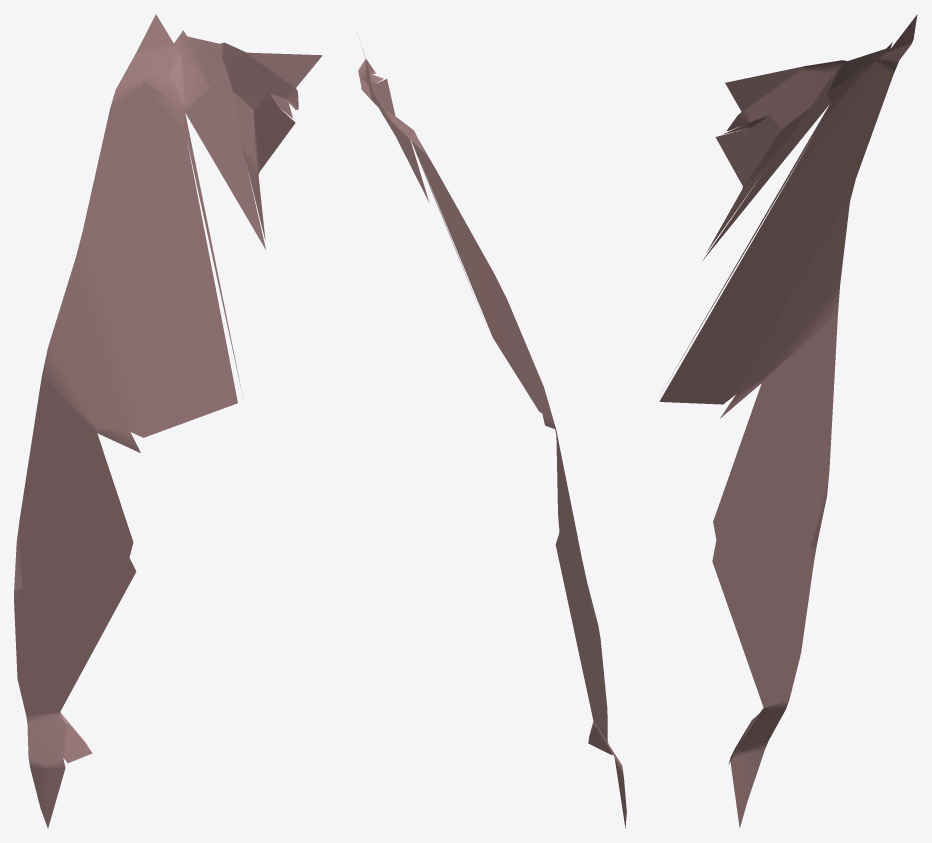
The model's file is cliff_area_2.fbx_Cliff_Area_2_017LODs.fbx.
The picture shows the model from 3 angles, left to right: view 1: azimuth 30°, elevation 25°; view 2: azimuth 150°, elevation 25°; view 3: azimuth 270°, elevation 25°; orthographic projection. The views are drawn at different scales.
Parts seen in each view (by area): view 1: Cliff Area 2.017_LOD0; view 2: Cliff Area 2.017_LOD0; view 3: Cliff Area 2.017_LOD0.
Boxes of the visible parts, box(x1,y1,x2,y2) form: Cliff Area 2.017_LOD0: box(14, 14, 322, 828); Cliff Area 2.017_LOD0: box(358, 48, 626, 828); Cliff Area 2.017_LOD0: box(659, 14, 917, 828).
Size of what is drawn, in the model's own units: 923 by 2292 by 588.
